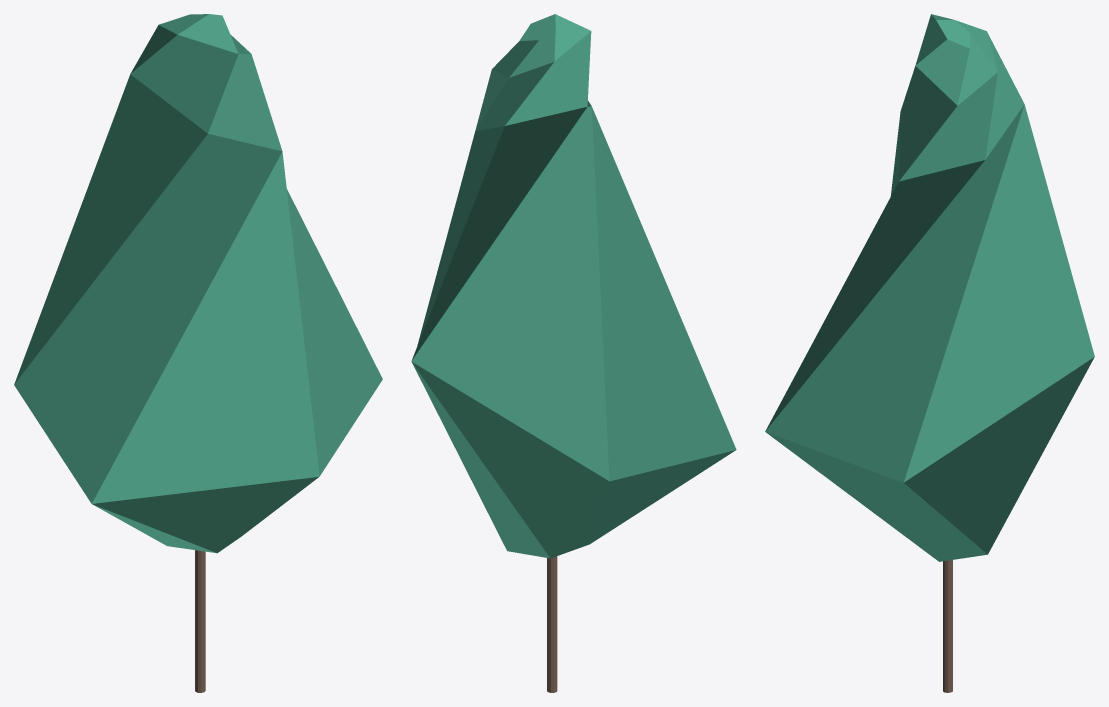
Rendered from Tree 1.fbx.
3 views of the same model, side by side, from view 1: azimuth 30°, elevation 25°; view 2: azimuth 150°, elevation 25°; view 3: azimuth 270°, elevation 25° (orthographic).
Visible parts, largest first — view 1: pCylinder11, pCylinder12; view 2: pCylinder11, pCylinder12; view 3: pCylinder11, pCylinder12.
Boxes of the visible parts, x1=… form: pCylinder11: x1=14, y1=14, x2=382, y2=553; pCylinder12: x1=195, y1=550, x2=205, y2=692; pCylinder11: x1=411, y1=14, x2=736, y2=558; pCylinder12: x1=547, y1=556, x2=557, y2=692; pCylinder11: x1=765, y1=14, x2=1094, y2=561; pCylinder12: x1=943, y1=560, x2=952, y2=692.
Size of the model in its own units: 2.85 by 6.02 by 2.67.
